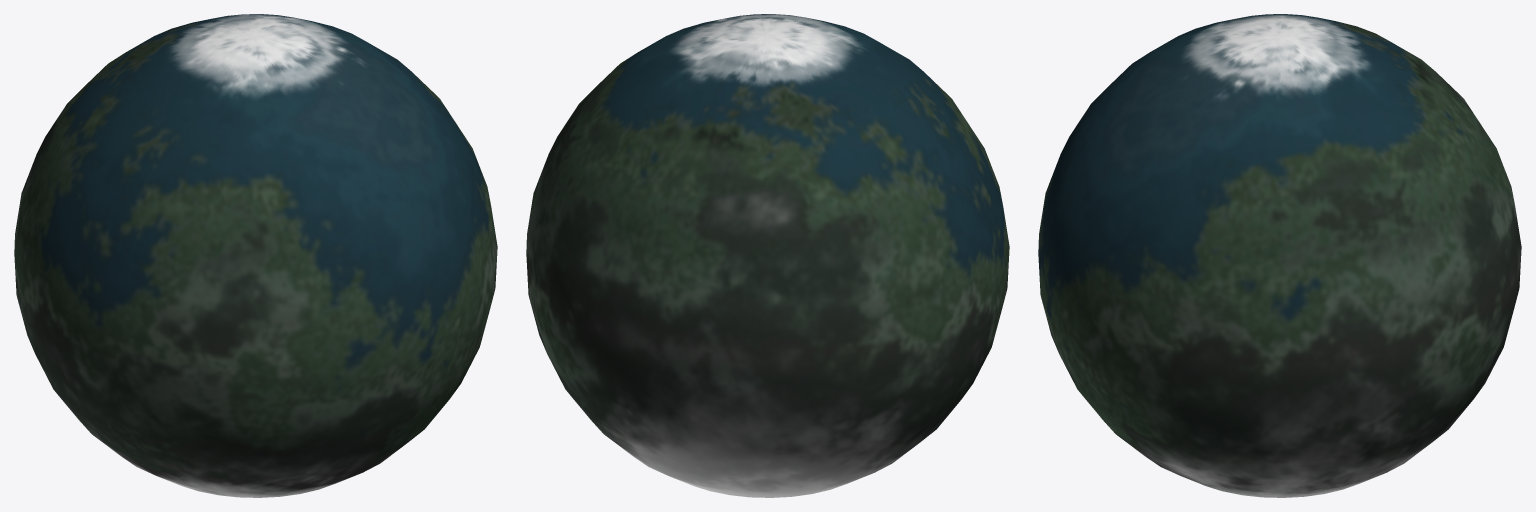
The model's file is planet3.glb.
The picture shows the model from 3 angles, left to right: view 1: azimuth 30°, elevation 25°; view 2: azimuth 150°, elevation 25°; view 3: azimuth 270°, elevation 25°; orthographic projection.
Visible parts, largest first — view 1: Sphere001; view 2: Sphere001; view 3: Sphere001.
Part boxes in pixels (x1,y1,x2,y2): Sphere001: [14, 14, 497, 497]; Sphere001: [526, 14, 1009, 497]; Sphere001: [1038, 14, 1521, 497].
Bounding box in the file's own units: 124 × 124 × 124.
1 material, 1 textured.
